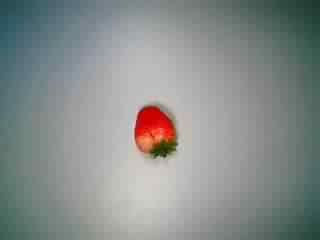strawberry: (123, 100, 189, 162)
